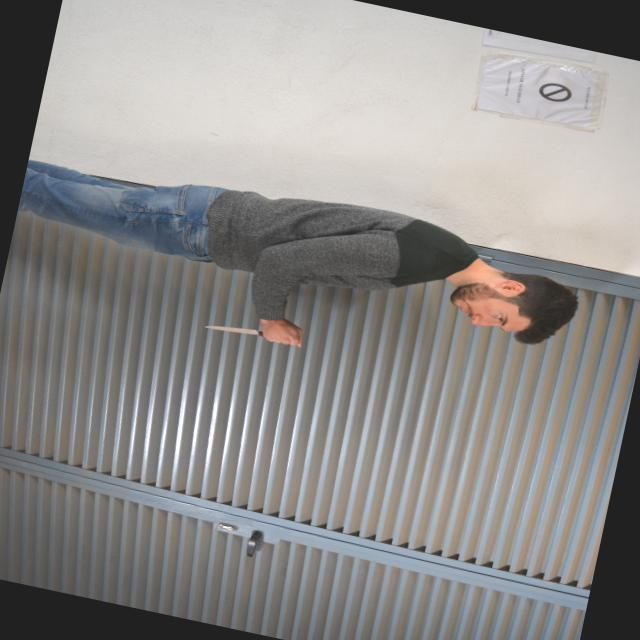knife: (196, 310, 286, 350)
